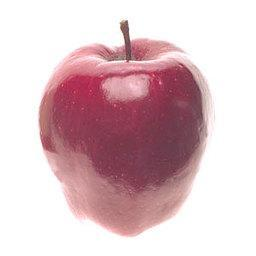apple: (37, 28, 209, 235)
